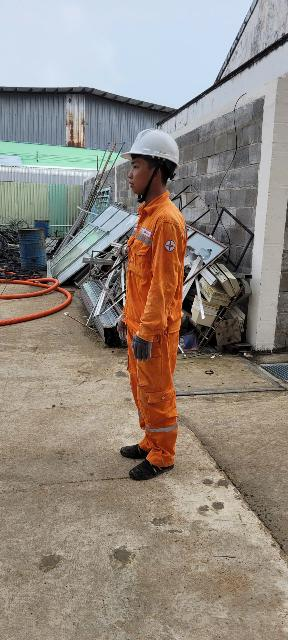gloves: (125, 333, 164, 362), (108, 309, 135, 342)
helmet: (123, 123, 193, 174)
shoes: (124, 448, 180, 478), (113, 433, 158, 458)
